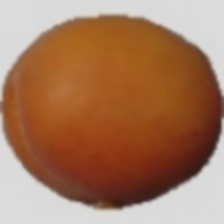apricot: (0, 5, 194, 186)
